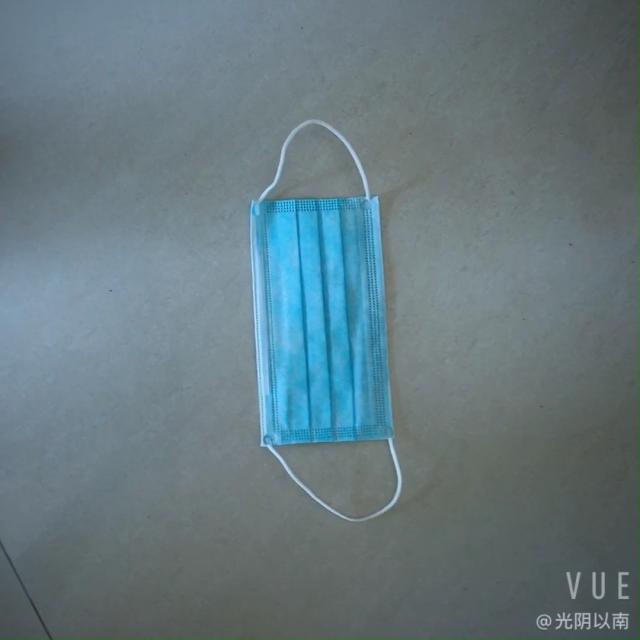face mask: (236, 175, 413, 471)
